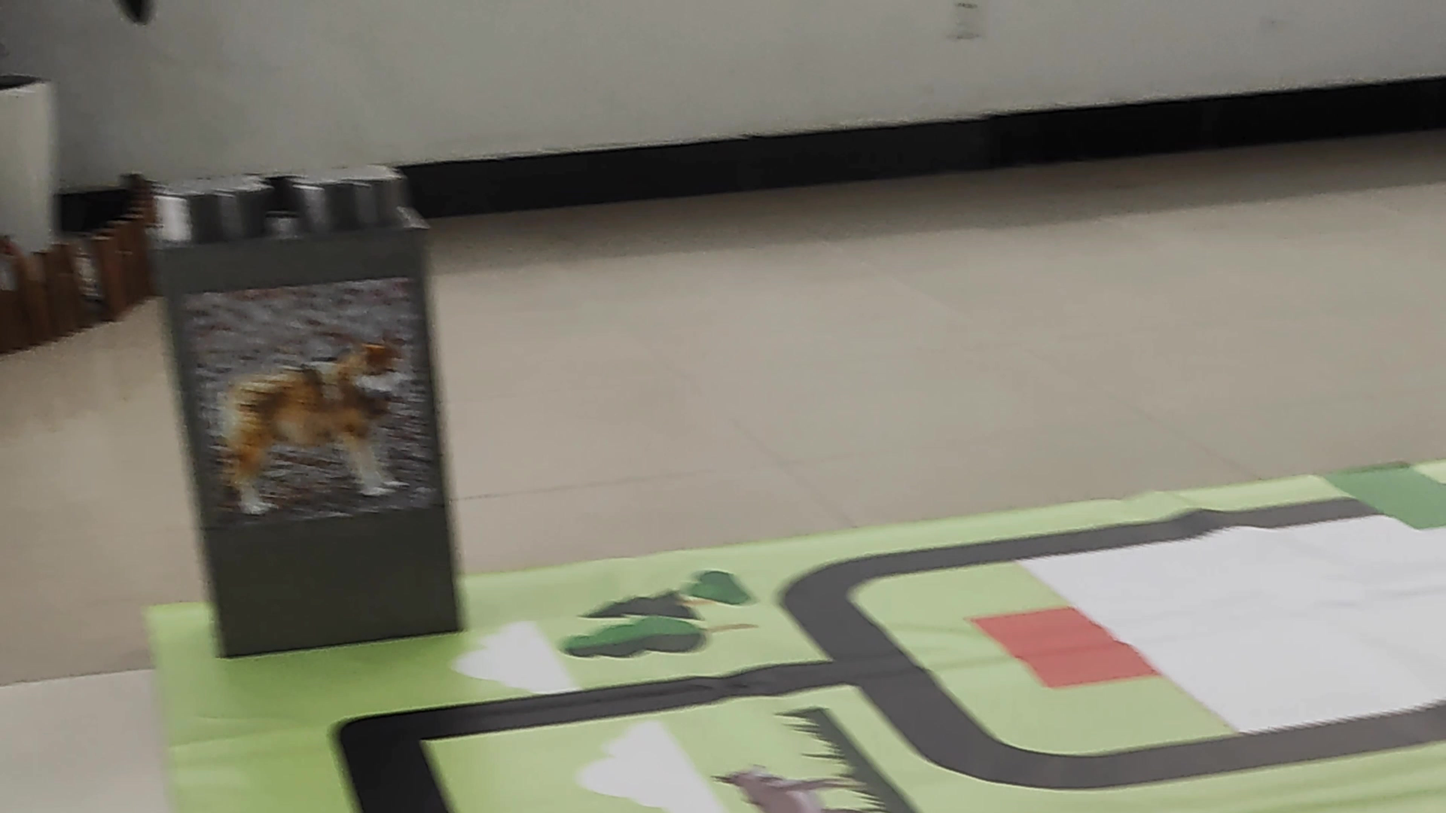wolf: (219, 329, 417, 531)
